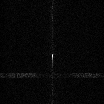wifi: (1, 72, 104, 78)
